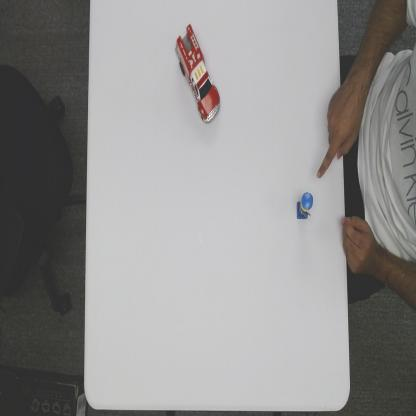Firetruck: (173, 20, 222, 126)
Hand: (316, 87, 345, 180)
